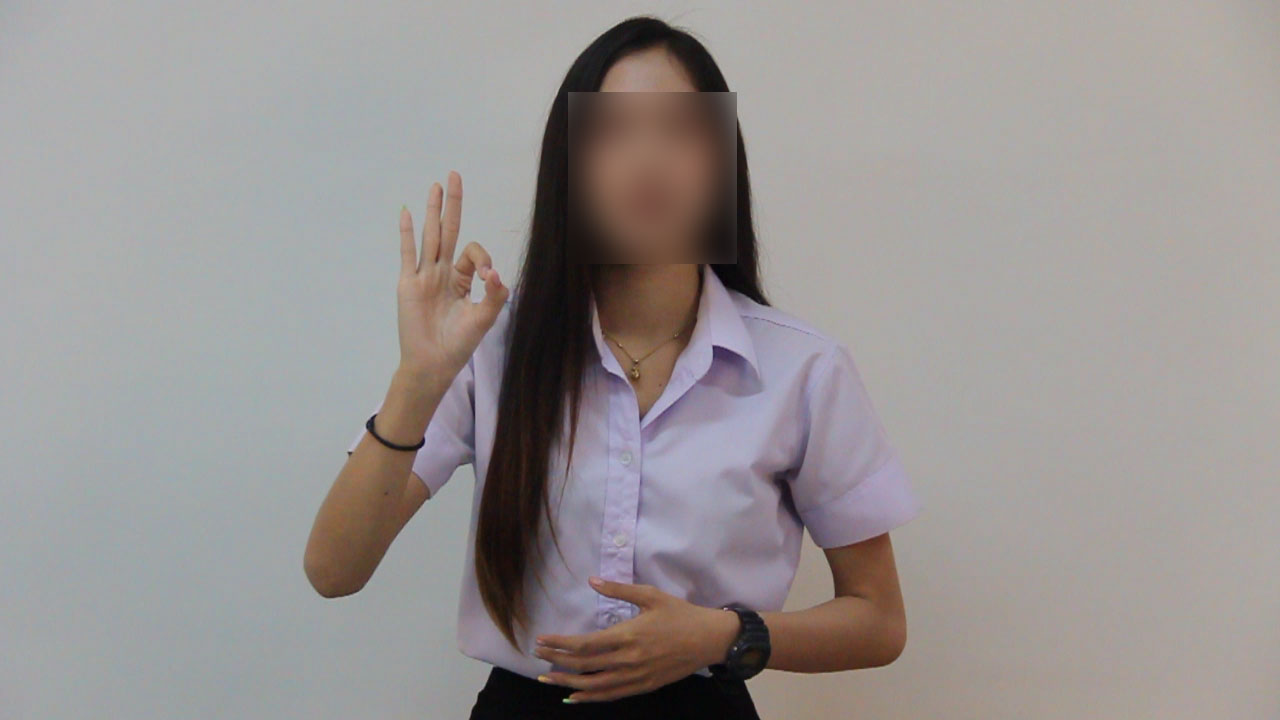for: (377, 155, 517, 391)
